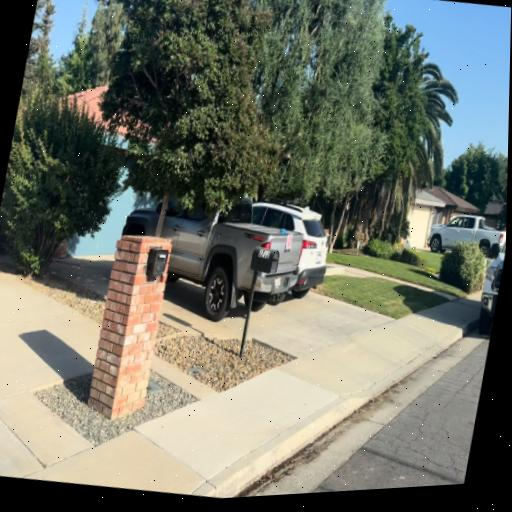bullseye: (285, 234, 292, 249)
